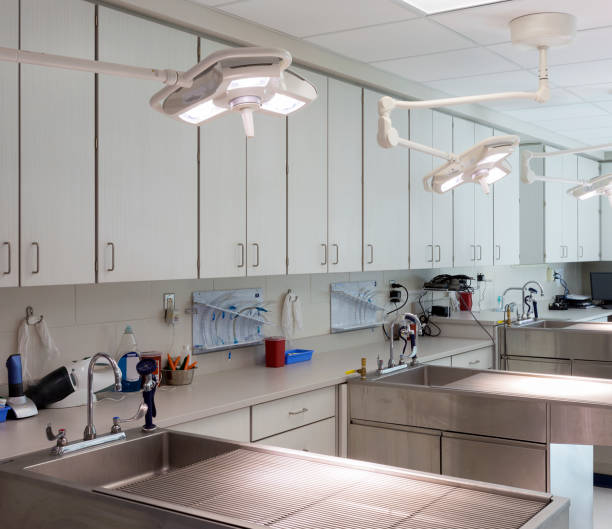cabinet: (1, 4, 604, 278)
countertop: (172, 344, 338, 418)
faucet: (382, 310, 423, 370), (107, 402, 151, 436), (518, 280, 545, 325), (42, 419, 73, 455)
handle: (1, 241, 14, 273), (31, 240, 42, 277), (105, 241, 117, 273), (236, 242, 246, 268), (252, 241, 261, 267), (320, 242, 330, 264), (367, 242, 376, 265), (332, 242, 341, 264), (288, 408, 309, 417), (467, 358, 483, 369), (427, 244, 434, 263), (435, 244, 441, 264), (471, 244, 477, 263), (477, 244, 483, 262), (561, 246, 569, 258), (496, 244, 501, 261), (579, 246, 584, 257)
sink: (27, 428, 249, 494), (358, 365, 484, 392), (508, 318, 585, 334)
surgical_light: (149, 45, 320, 139), (421, 137, 523, 198), (569, 174, 612, 206)
